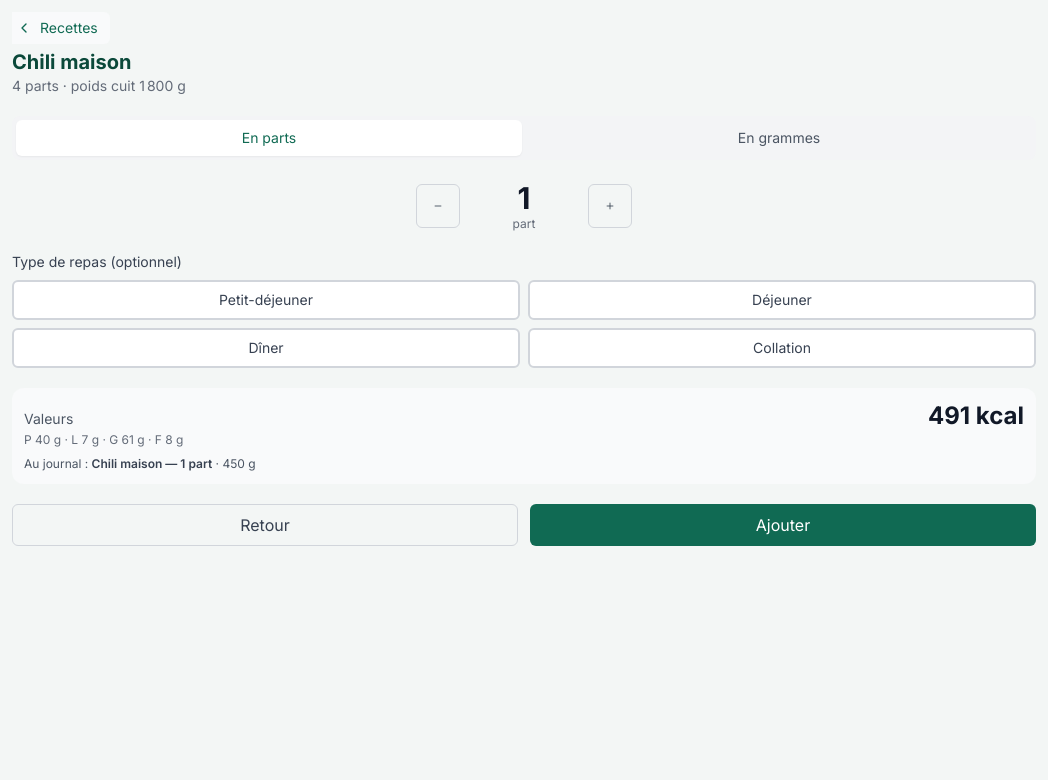
Test: RecipePortion › propose les grammes seulement quand le poids cuit est connu
This screenshot has width=1048, height=780.
Click the button "En grammes" at (779, 138), box [526, 120, 1032, 156]
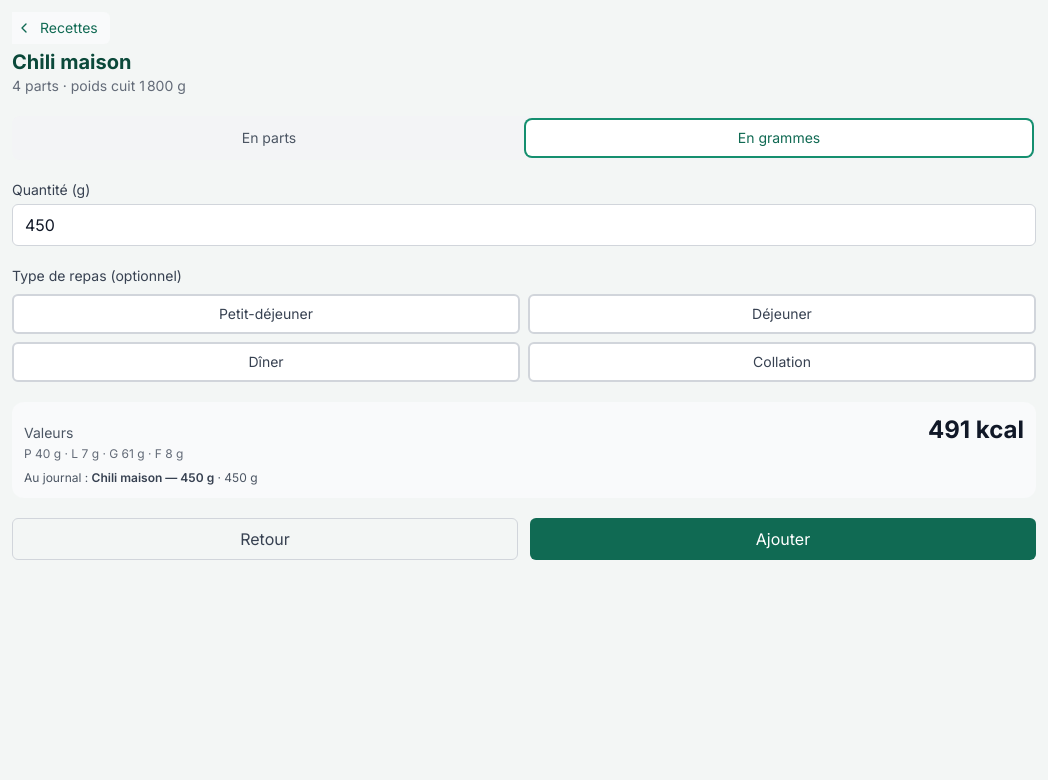
Now the number field labelled "Quantité (g)" holds "450"
Replace the text in the number field labelled "Quantité (g)" with "380" at (524, 225), box [12, 204, 1036, 246]
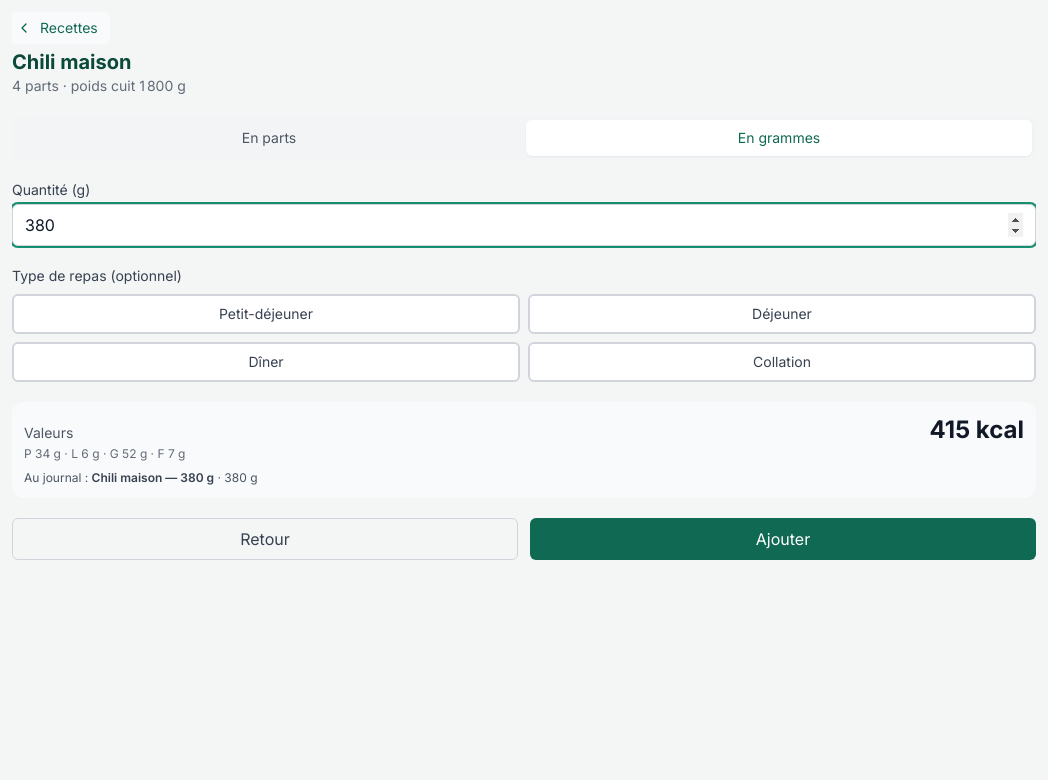
Now the text "415 kcal" is shown, box [930, 414, 1024, 446]
Now the text "Chili maison — 380 g" is shown, box [92, 470, 214, 485]
